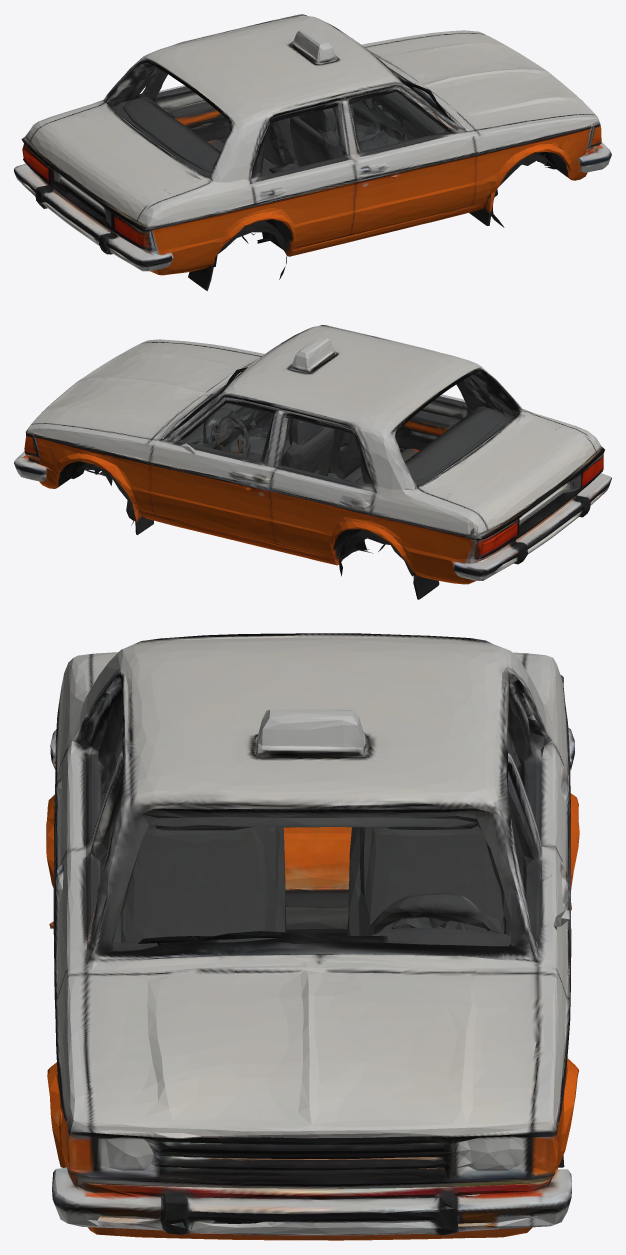
The model's file is body.glb.
3 renders of one model, top to bottom at view 1: azimuth 30°, elevation 25°; view 2: azimuth 150°, elevation 25°; view 3: azimuth 270°, elevation 25°, orthographic. The views are drawn at different scales.
Parts seen in each view (by area): view 1: tripo_node_8977768c-7d9f-45ac-9c23-1e4c5fce741d; view 2: tripo_node_8977768c-7d9f-45ac-9c23-1e4c5fce741d; view 3: tripo_node_8977768c-7d9f-45ac-9c23-1e4c5fce741d.
Boxes of the visible parts, x1,y1,x2,y2 form: tripo_node_8977768c-7d9f-45ac-9c23-1e4c5fce741d: (14, 14, 611, 290); tripo_node_8977768c-7d9f-45ac-9c23-1e4c5fce741d: (14, 325, 611, 599); tripo_node_8977768c-7d9f-45ac-9c23-1e4c5fce741d: (46, 633, 579, 1240).
Size of the model in its own units: 4.7 by 1.77 by 2.22.
Materials: 1 (1 with a texture image).
